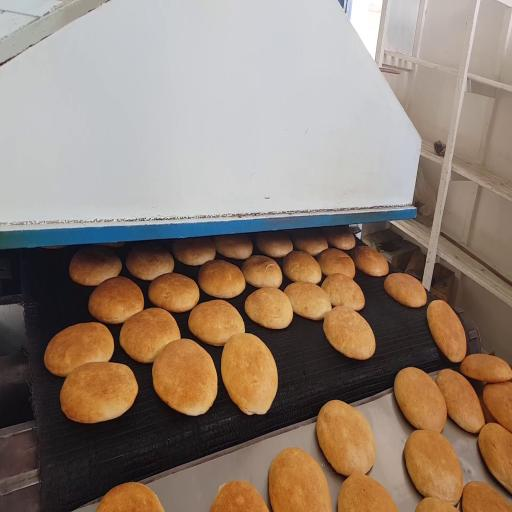bread: (152, 339, 217, 415), (60, 362, 138, 423), (221, 333, 277, 414), (316, 400, 375, 476), (404, 430, 463, 504), (269, 448, 332, 511), (44, 322, 114, 376), (394, 367, 447, 432), (120, 308, 181, 363), (436, 369, 485, 433), (324, 306, 375, 360), (188, 300, 245, 346), (89, 277, 144, 324), (427, 300, 466, 362), (478, 423, 511, 493), (338, 474, 398, 511), (69, 246, 121, 286), (245, 288, 293, 329), (149, 273, 199, 312), (97, 483, 164, 511), (198, 260, 245, 298), (210, 481, 268, 511), (284, 282, 331, 319), (126, 244, 174, 280), (322, 274, 365, 310), (460, 354, 511, 383), (384, 273, 426, 307), (462, 482, 511, 511), (483, 382, 511, 432), (172, 237, 216, 266), (242, 256, 282, 287), (283, 251, 321, 283), (317, 248, 355, 278), (352, 246, 388, 276), (214, 235, 253, 259), (256, 232, 293, 257), (292, 230, 328, 255), (324, 227, 355, 250), (415, 497, 457, 511), (99, 242, 125, 247)
